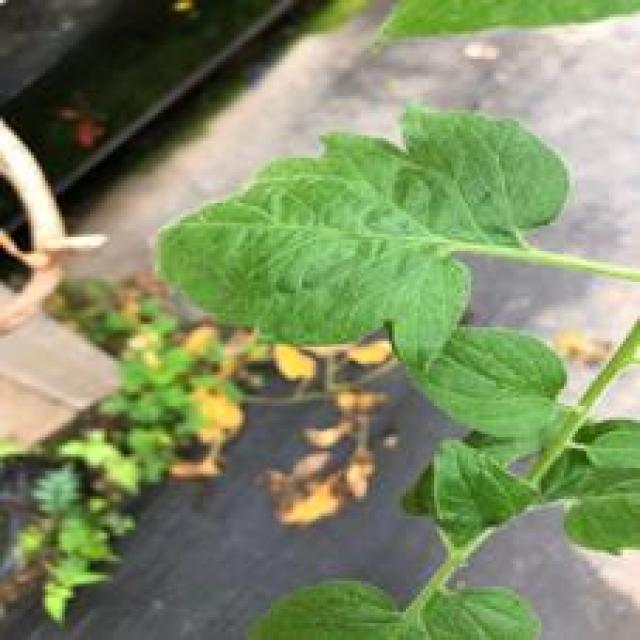Healthy Leaf: (150, 99, 575, 382), (401, 321, 570, 444)
